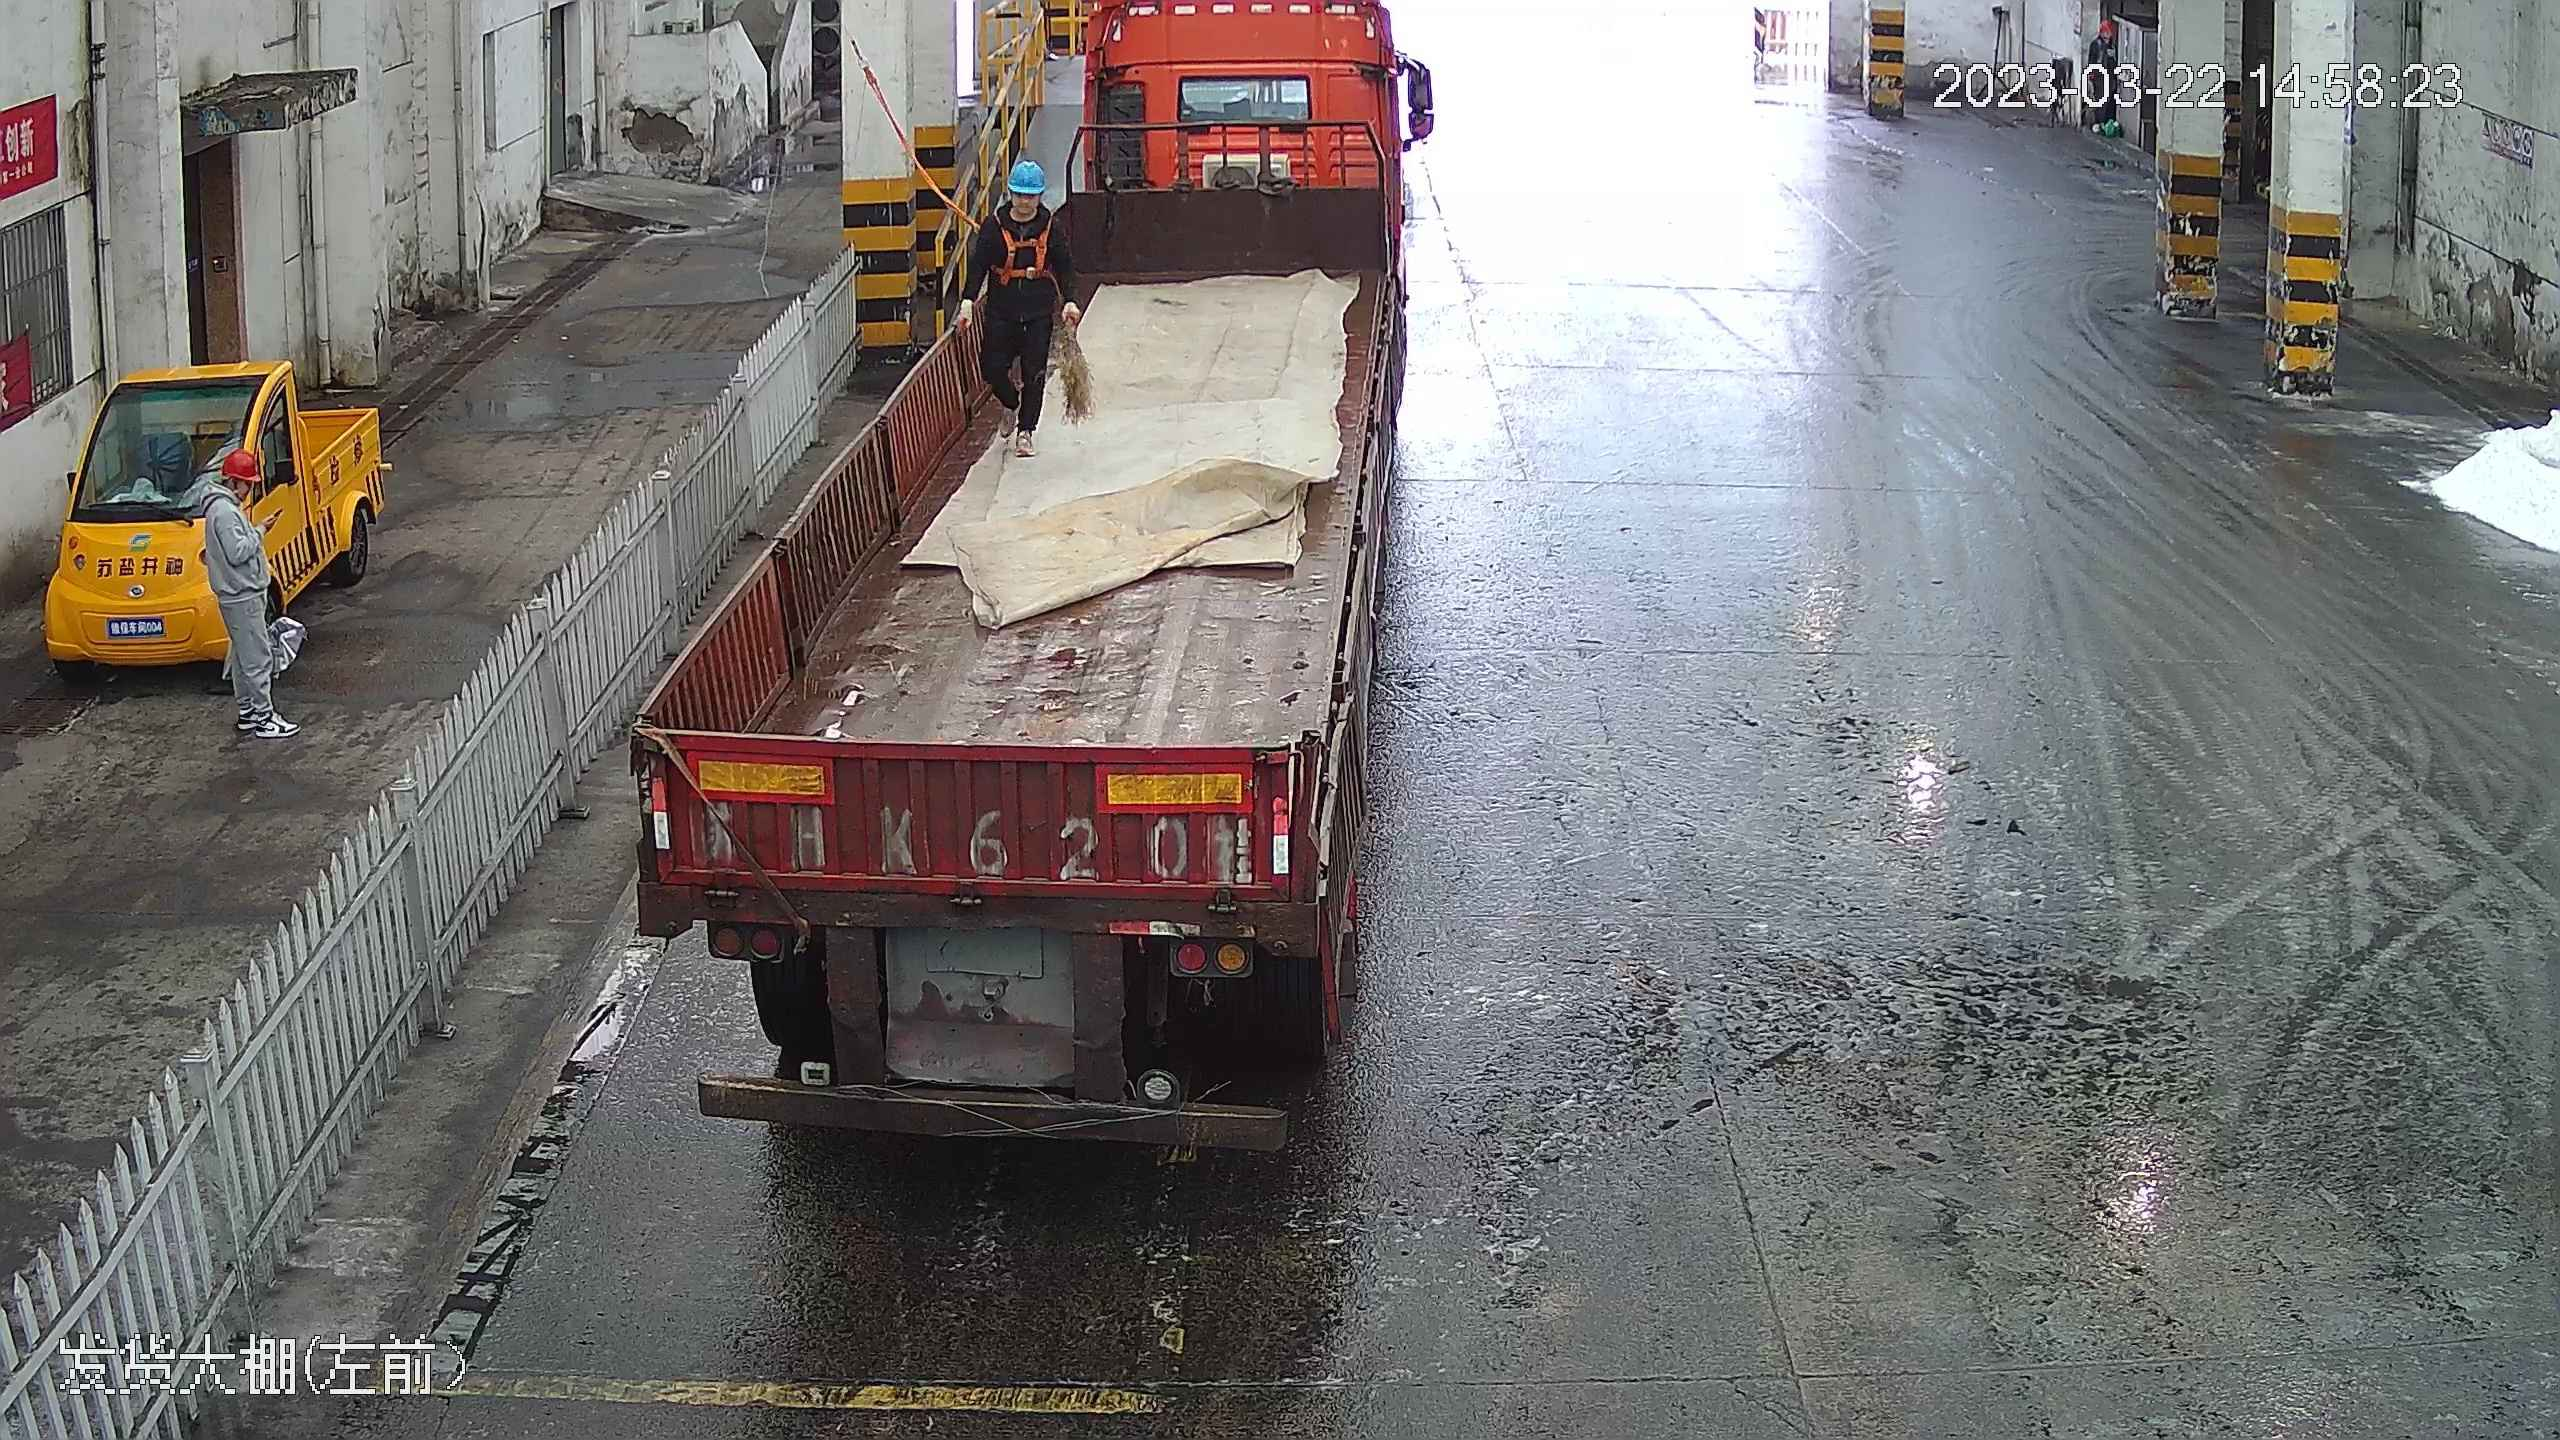belt: (984, 207, 1054, 284)
head: (968, 168, 1069, 259), (202, 447, 265, 547)
helmet: (218, 447, 263, 485), (1009, 166, 1048, 197)
people: (950, 169, 1082, 453), (196, 449, 304, 740)
truck: (601, 3, 1448, 1152)
